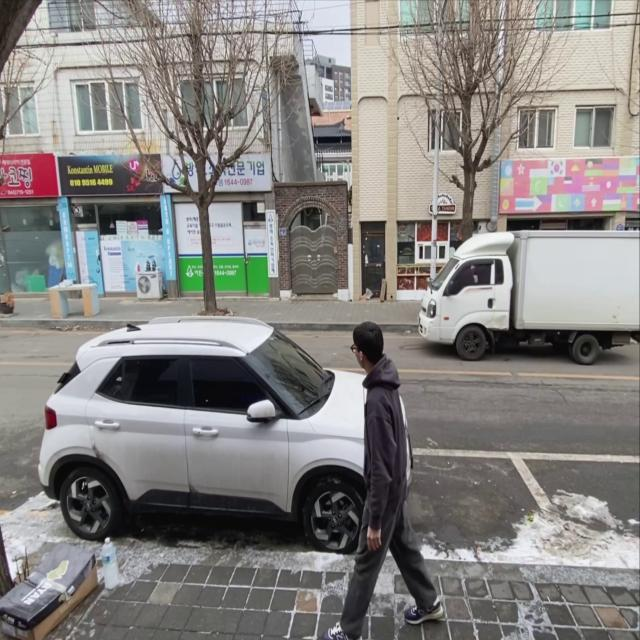bare_hand: (362, 520, 383, 555)
